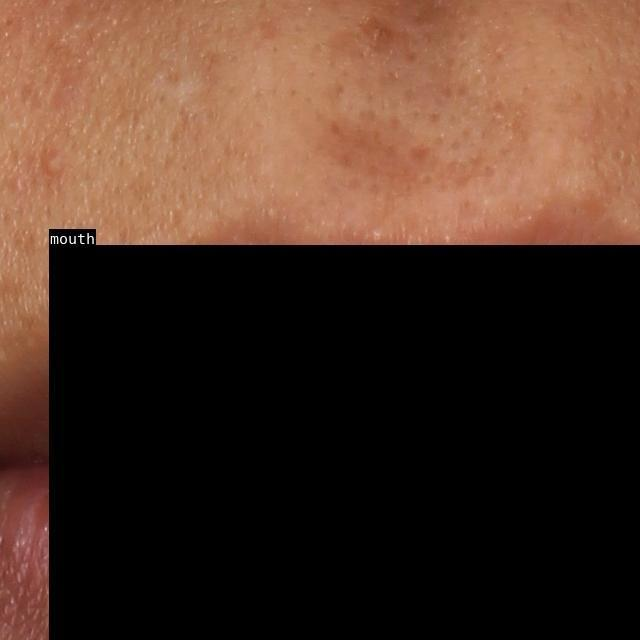hypertrophic_scar: (149, 59, 204, 114)
papule: (38, 151, 62, 177)
